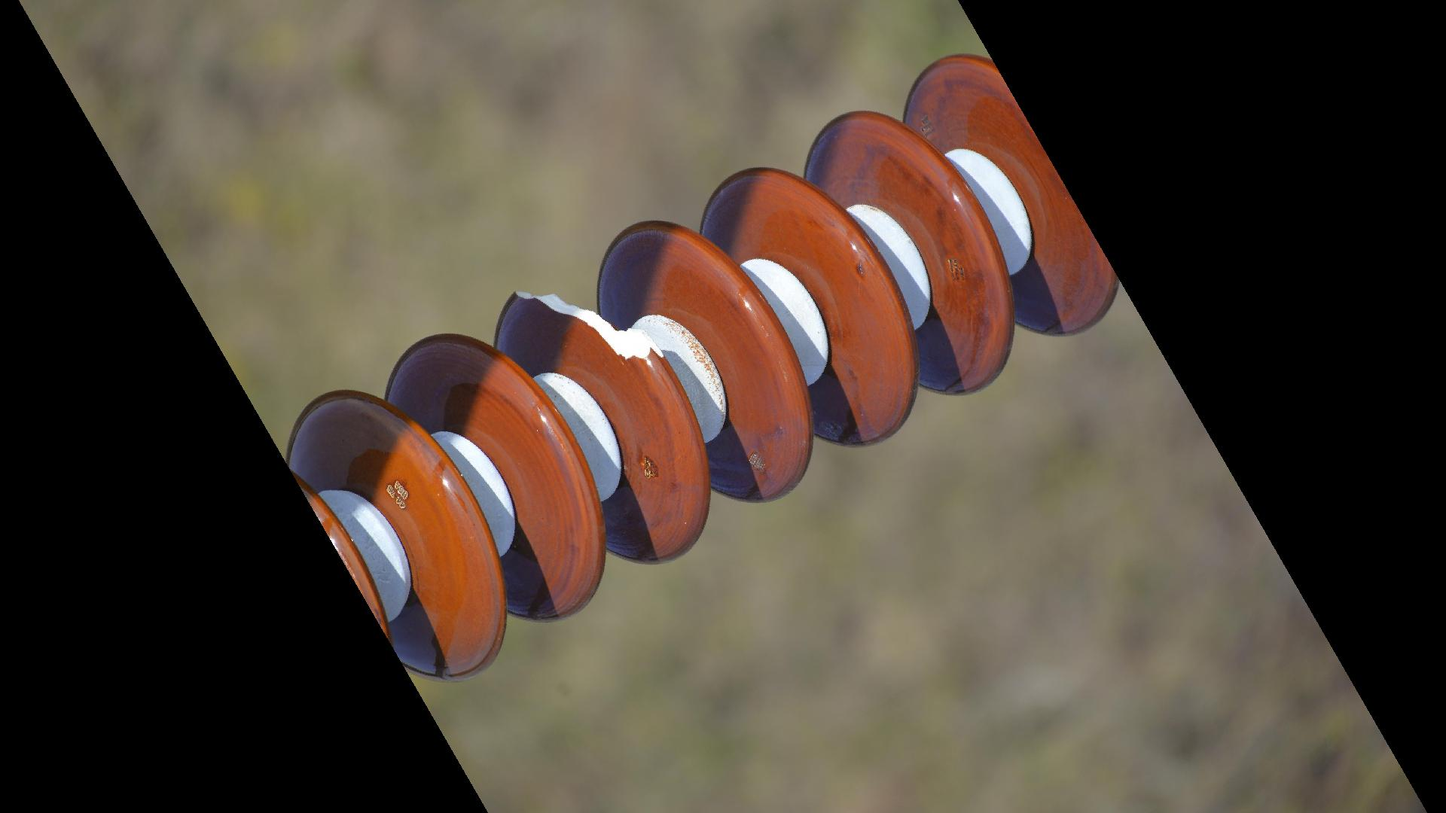insulator: (280, 47, 1127, 687)
insulator_breakage: (501, 276, 681, 382)
